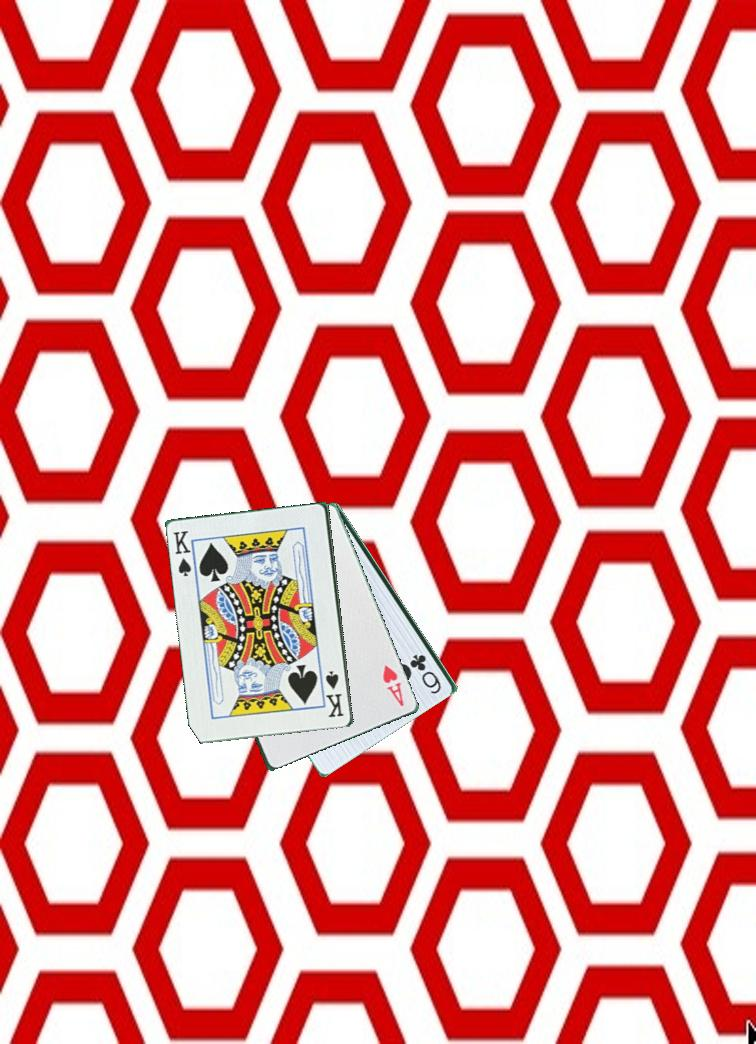6c: (409, 651, 445, 697)
ah: (379, 661, 407, 709)
ks: (170, 521, 195, 579), (322, 667, 347, 720)
